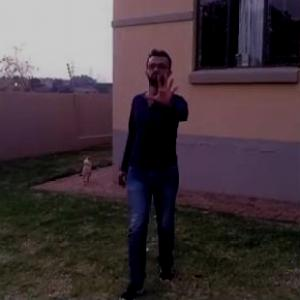follow_hand: (146, 67, 182, 112)
